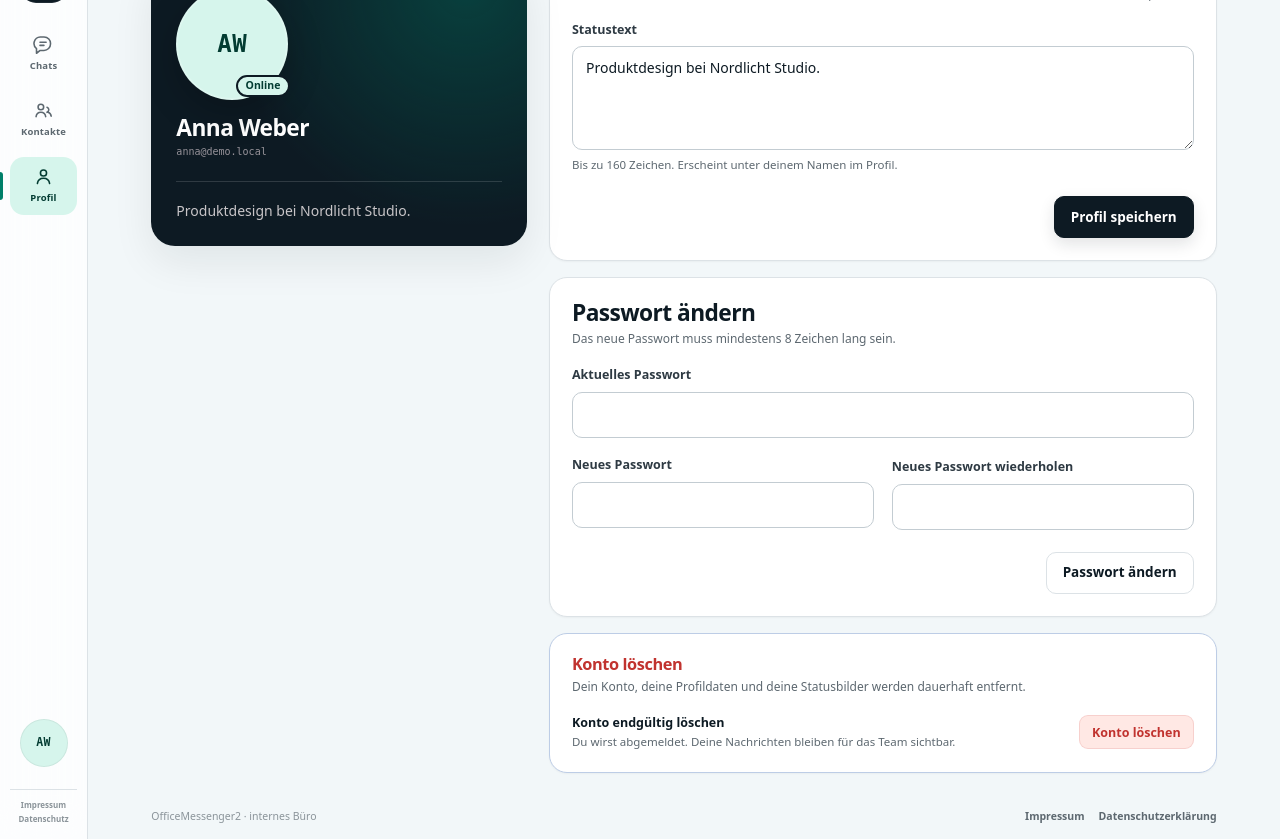
ProfilePage › keeps the dialog open when deletion is rejected
(page scrolled)
Click the button "Konto löschen" at (1136, 732), box left=1079, top=716, right=1194, bottom=750
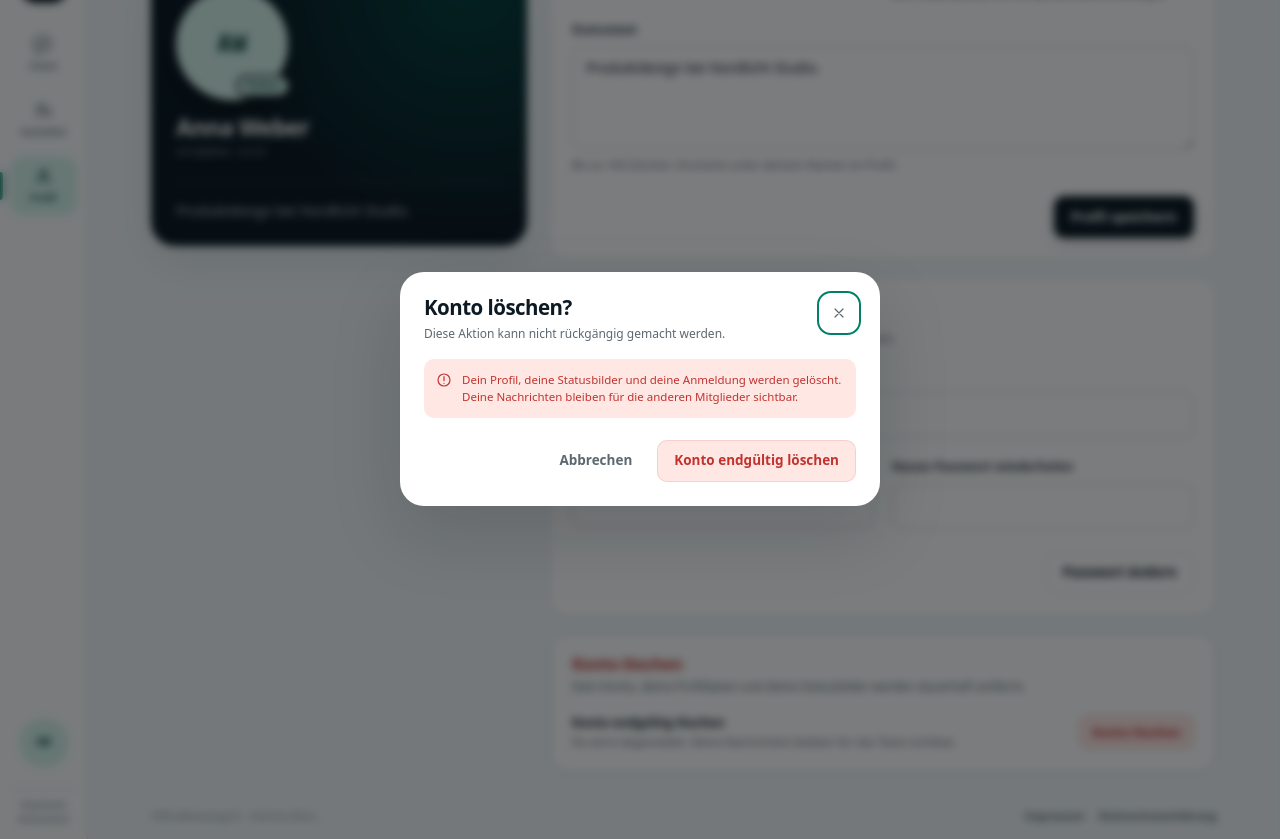
Click the button "Konto endgültig löschen" at (757, 460), box left=657, top=440, right=856, bottom=482
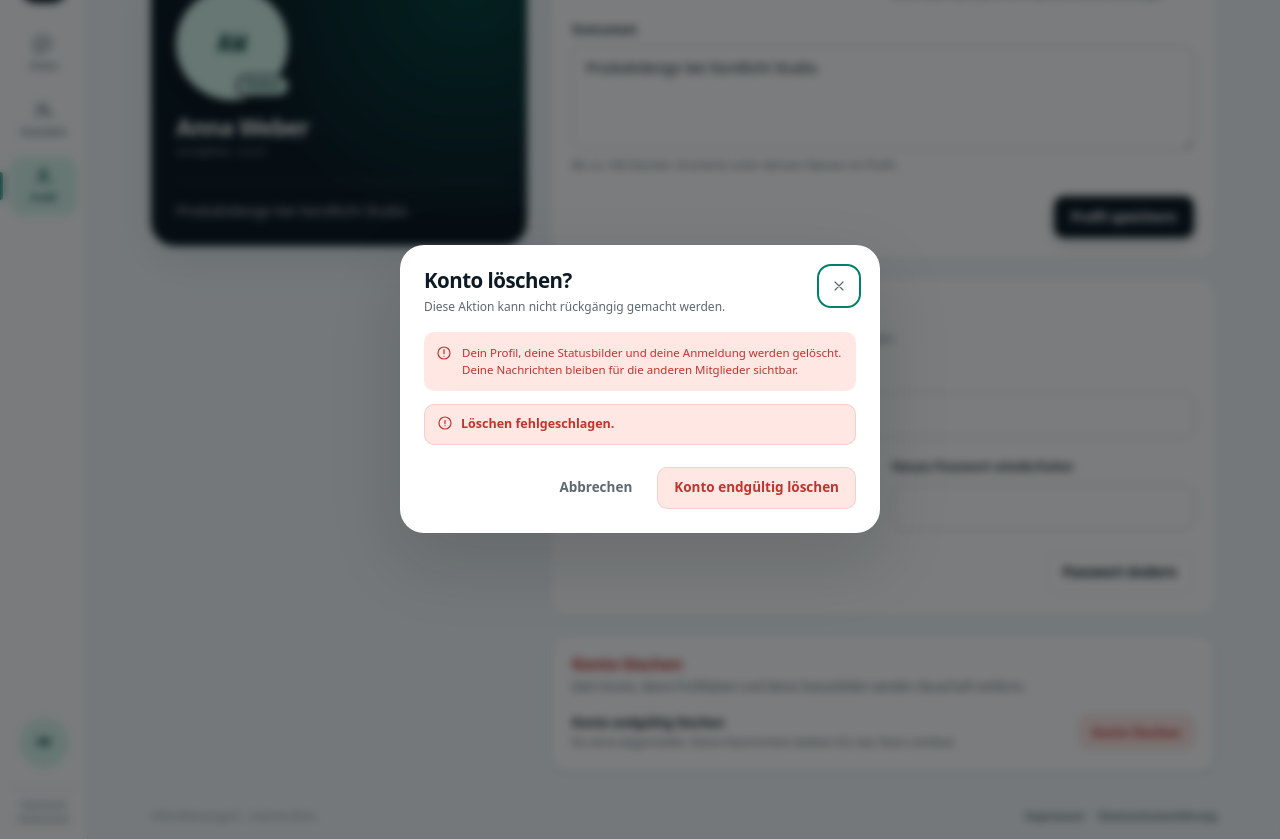
Result: the dialog "Konto löschen?" is shown at left=400, top=245, right=880, bottom=533
Result: the text "Löschen fehlgeschlagen." is shown at left=461, top=416, right=614, bottom=434
